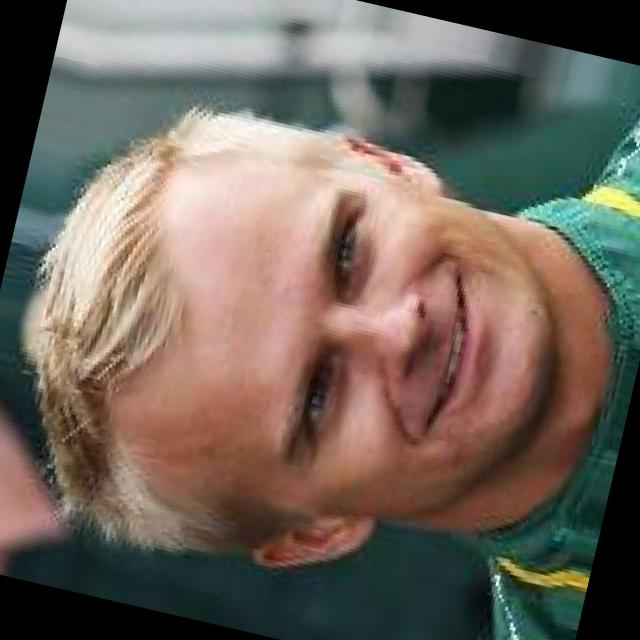bareface: (27, 75, 585, 618)
